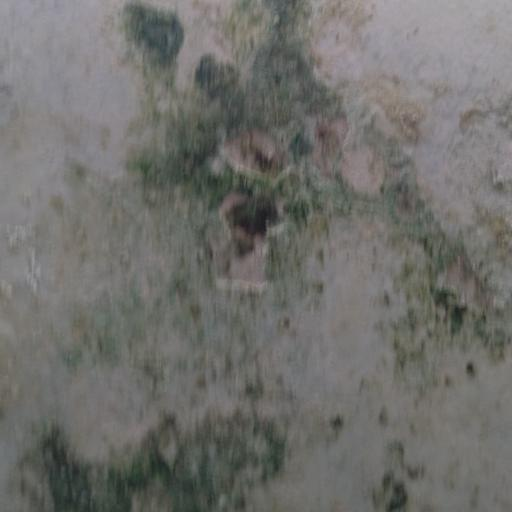algae: (105, 1, 487, 508)
